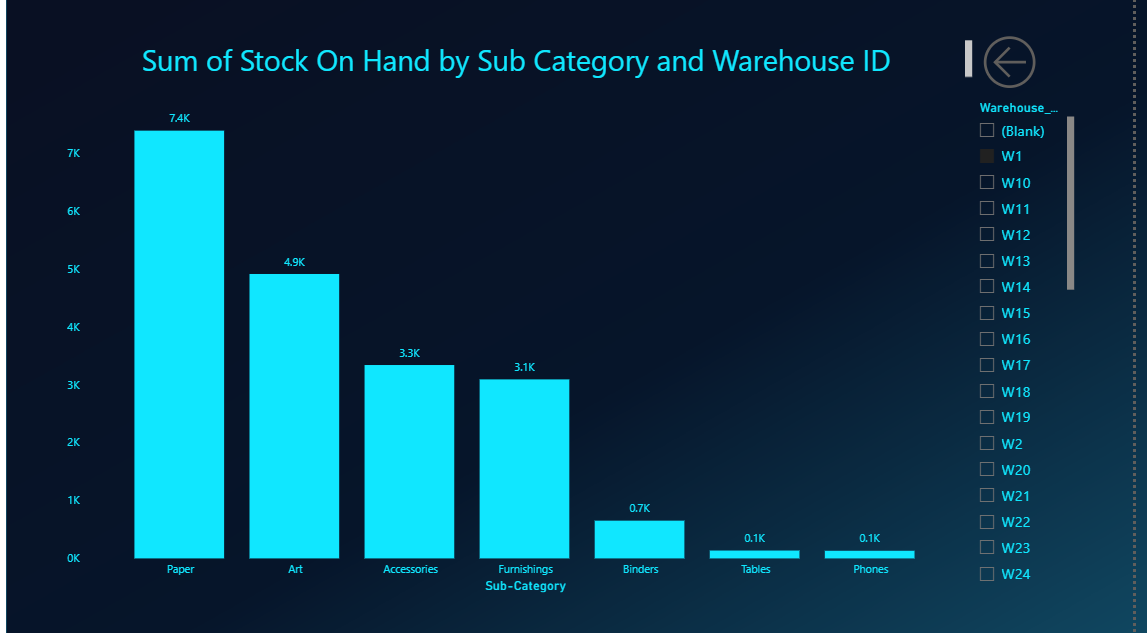

The page's visual inventory and layout, read from the dashboard file:
{"tool":"powerbi","page":{"name":"Warehouse ID","canvas":[1280,720],"ordinal":0},"visuals":[{"type":"columnChart","fields":{"Category":["Supply Chain.Sub-Category"],"Y":["Sum(Supply Chain.Stock_On_Hand)"]},"box":[90.4,111,1005.7,557],"z":0},{"type":"textbox","box":[90.4,44.8,1016.4,51.9],"z":1000},{"type":"slicer","fields":{"Values":["Supply Chain.Warehouse_ID"]},"box":[1096.1,111,122.7,557],"z":2000},{"type":"actionButton","box":[1106.9,38.5,120,72.5],"z":3000}]}

Visuals, with their boxes in screenshot pixels (x1, y1, x2, y2), scaled from the page's 1280x720 canvas onto the 1147x633 screenshot:
columnChart - Supply Chain.Sub-Category x Sum(Supply Chain.Stock_On_Hand): pyautogui.locateOnScreen(81, 98, 982, 587)
textbox: pyautogui.locateOnScreen(81, 39, 992, 85)
slicer - Supply Chain.Warehouse_ID: pyautogui.locateOnScreen(982, 98, 1092, 587)
actionButton: pyautogui.locateOnScreen(992, 34, 1099, 98)
